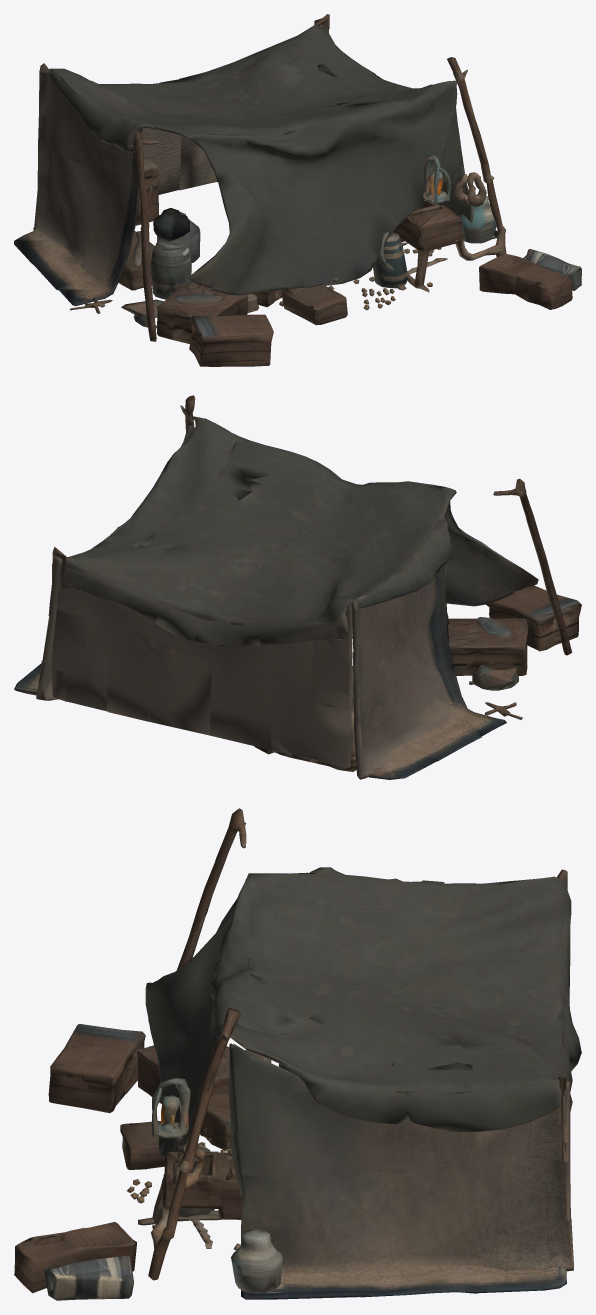
Rendered from prop_4305.glb.
3 renders of one model, top to bottom at view 1: azimuth 30°, elevation 25°; view 2: azimuth 150°, elevation 25°; view 3: azimuth 270°, elevation 25°, orthographic. The views are drawn at different scales.
Parts seen in each view (by area): view 1: prop_4305_mesh; view 2: prop_4305_mesh; view 3: prop_4305_mesh.
Boxes of the visible parts, x1,y1,x2,y2 form: prop_4305_mesh: (14,14,581,366); prop_4305_mesh: (14,395,581,779); prop_4305_mesh: (14,808,581,1300).
Bounding box in the file's own units: 1.9 × 0.8787 × 1.75.
Materials: 1 (1 with a texture image).
